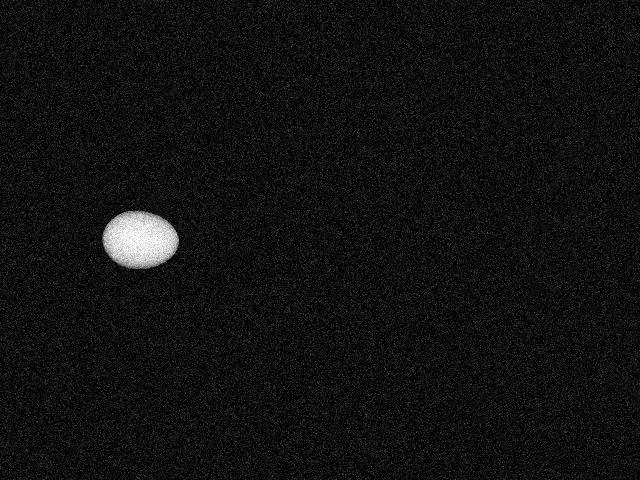egg: (102, 211, 177, 269)
